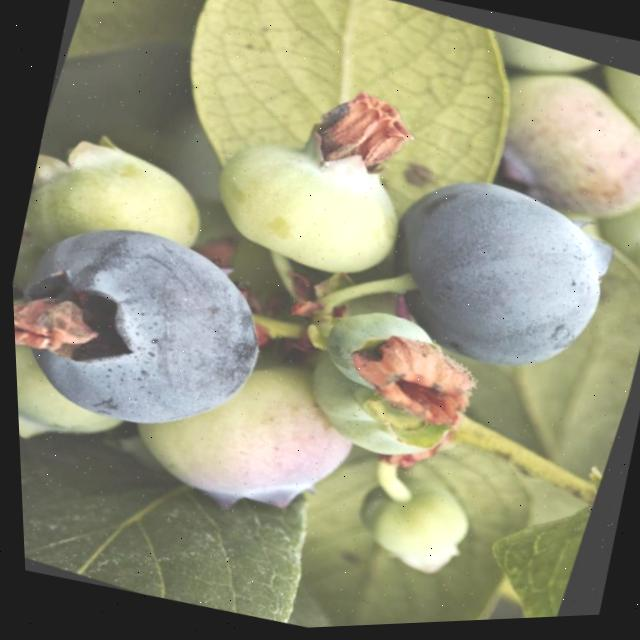RipeBlueBerry: (7, 195, 297, 473), (357, 152, 635, 404)
UnripeBlueBerry: (193, 83, 432, 298)
